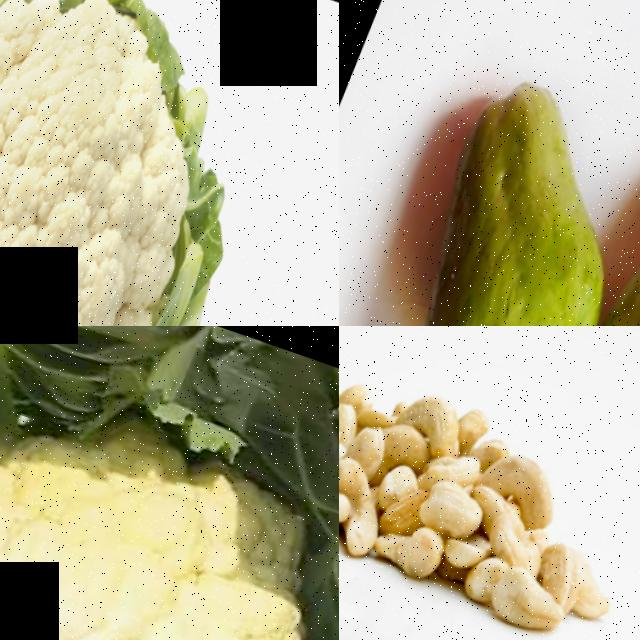cashew: (473, 440, 575, 535), (339, 477, 410, 591), (401, 378, 492, 465), (487, 564, 588, 640), (409, 465, 490, 553), (544, 534, 630, 614), (482, 504, 563, 575), (345, 415, 402, 467), (339, 404, 361, 468)
cauliflower: (0, 0, 339, 326), (0, 348, 339, 640)
chayote: (339, 28, 640, 326), (532, 71, 640, 326)
